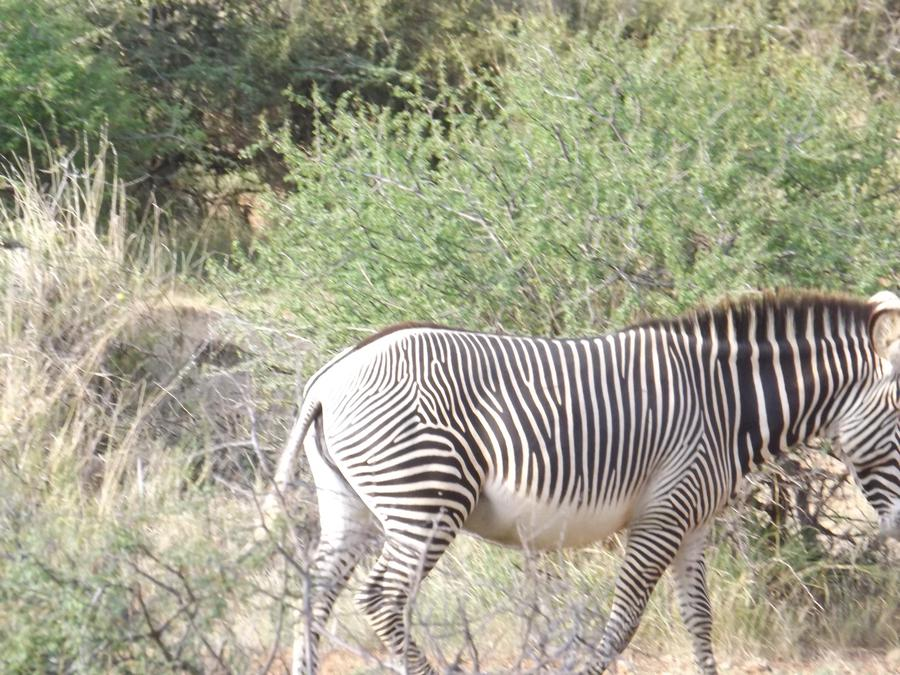zebra_grevys: (289, 299, 725, 536)
